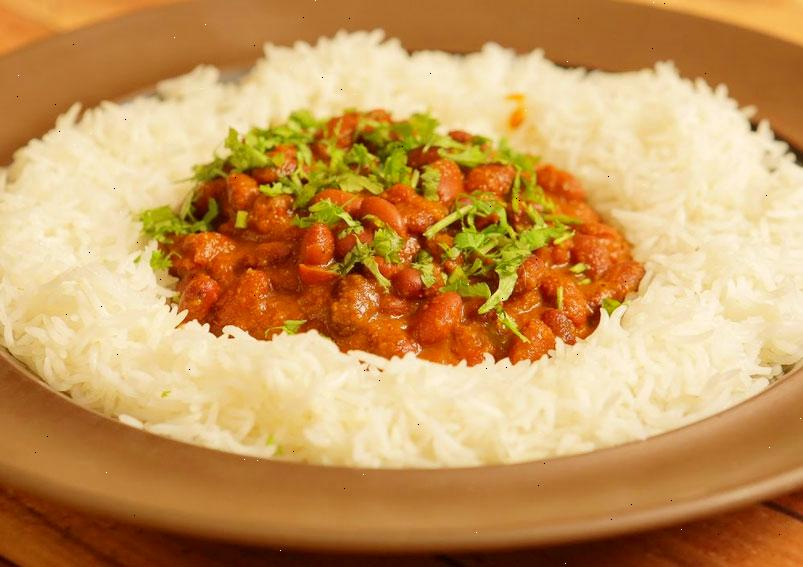rajma: (240, 114, 571, 343)
rice: (600, 74, 801, 411)
